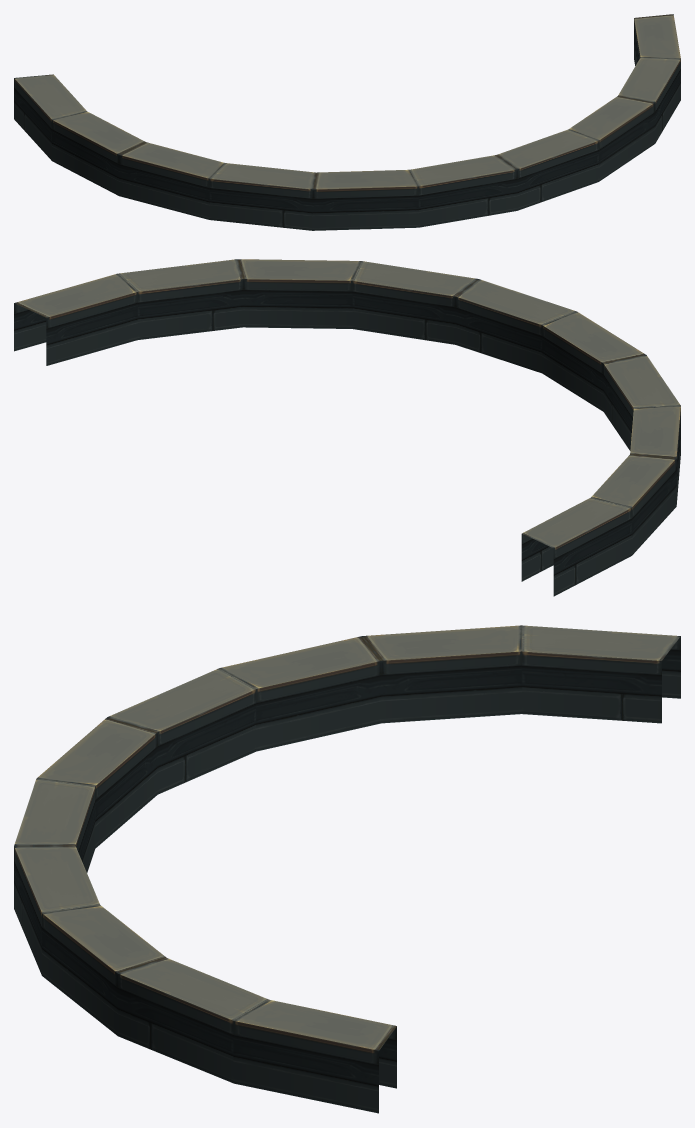
Rendered from cs_zhucheng_chuansongfb_001.FBX.
The picture shows the model from 3 angles, top to bottom: view 1: azimuth 30°, elevation 25°; view 2: azimuth 150°, elevation 25°; view 3: azimuth 270°, elevation 25°; orthographic projection. The views are drawn at different scales.
Parts seen in each view (by area): view 1: cs_zhucheng_chuansongfb_001; view 2: cs_zhucheng_chuansongfb_001; view 3: cs_zhucheng_chuansongfb_001.
Part boxes in pixels (x1=…): cs_zhucheng_chuansongfb_001: x1=14, y1=14, x2=680, y2=230; cs_zhucheng_chuansongfb_001: x1=14, y1=259, x2=680, y2=596; cs_zhucheng_chuansongfb_001: x1=14, y1=625, x2=680, y2=1113.
Size of the model in its own units: 357 by 237 by 24.54.
